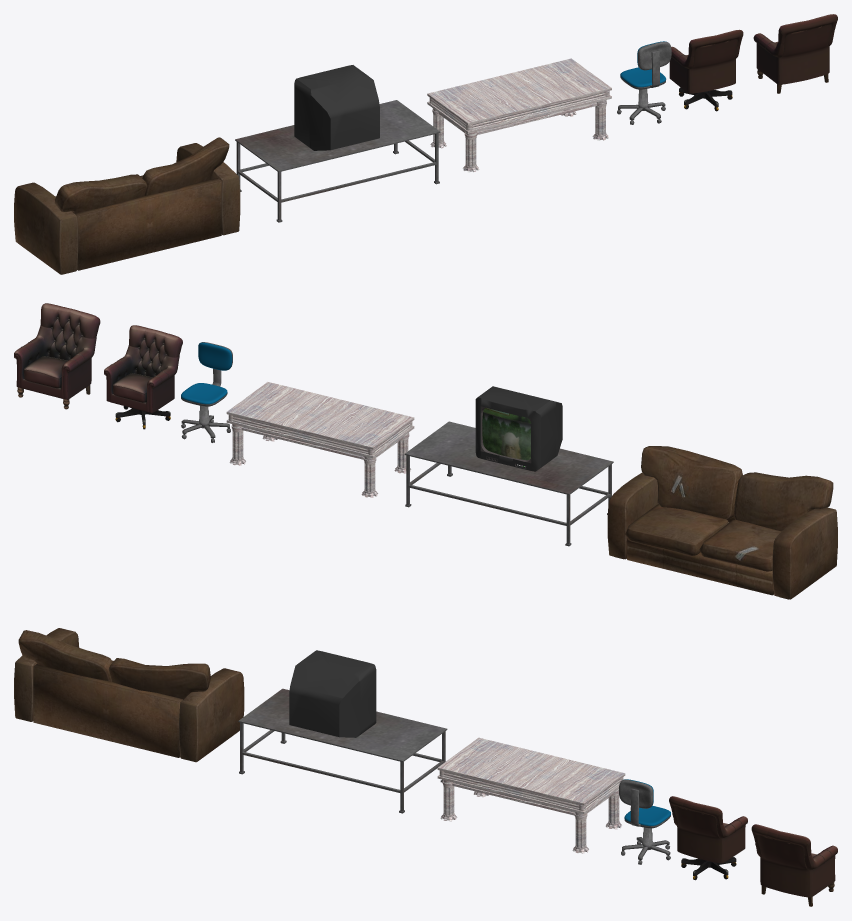
Rendered from furniture-pack.glb.
3 renders of one model, top to bottom at view 1: azimuth 30°, elevation 25°; view 2: azimuth 150°, elevation 25°; view 3: azimuth 330°, elevation 25°, orthographic.
Parts seen in each view (by area): view 1: Object_14, Object_11, Object_9, Object_12, Object_6, Object_10, Object_16, Object_15, Object_7; view 2: Object_14, Object_11, Object_9, Object_6, Object_10, Object_12, Object_8, Object_15, Object_16; view 3: Object_14, Object_11, Object_12, Object_9, Object_6, Object_10, Object_16, Object_15, Object_7.
Part boxes in pixels (box(x1,y1,x2,y2)): Object_14: box(14, 137, 240, 274); Object_11: box(427, 58, 611, 172); Object_9: box(235, 100, 440, 222); Object_12: box(294, 65, 379, 150); Object_6: box(753, 14, 837, 93); Object_10: box(669, 29, 743, 93); Object_16: box(617, 41, 671, 124); Object_15: box(620, 41, 666, 87); Object_7: box(679, 87, 732, 111); Object_14: box(607, 446, 837, 599); Object_11: box(226, 382, 414, 497); Object_9: box(404, 421, 613, 546); Object_6: box(14, 303, 100, 409); Object_10: box(104, 325, 182, 413); Object_12: box(475, 386, 562, 471); Object_8: box(482, 407, 531, 460); Object_15: box(181, 342, 232, 404); Object_16: box(181, 342, 232, 442); Object_14: box(14, 628, 244, 762); Object_11: box(437, 737, 625, 853); Object_12: box(289, 650, 376, 737); Object_9: box(238, 688, 447, 813); Object_6: box(751, 824, 837, 906); Object_10: box(669, 796, 747, 863); Object_16: box(619, 779, 670, 864); Object_15: box(623, 779, 670, 826); Object_7: box(681, 857, 736, 880).
Bounding box in the file's own units: 55.04 × 7.49 × 6.26.
18 materials, 8 textured.
